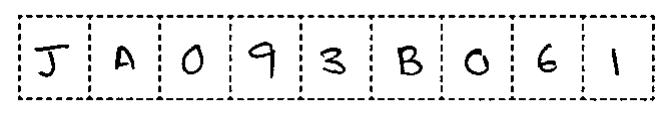0: (174, 39, 209, 82), (458, 42, 495, 79)
1: (600, 43, 630, 83)
3: (314, 40, 349, 82)
6: (532, 40, 561, 76)
9: (243, 37, 283, 82)
A: (392, 37, 430, 82), (107, 41, 141, 75)
J: (29, 40, 74, 82)
